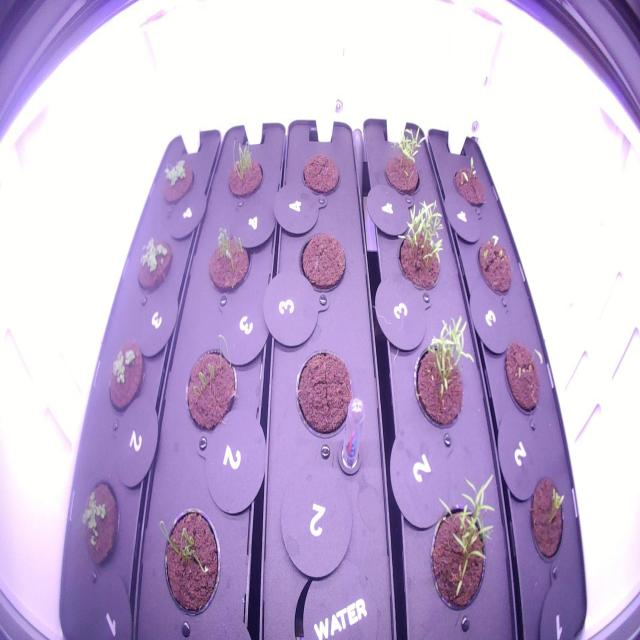germination: (422, 465, 503, 617), (407, 306, 479, 437), (154, 497, 226, 621), (178, 325, 240, 441), (391, 193, 448, 300), (76, 474, 128, 583), (375, 116, 431, 210), (525, 466, 572, 568), (201, 218, 257, 303), (501, 324, 548, 420), (103, 335, 150, 417), (473, 224, 518, 302), (222, 133, 268, 208), (448, 145, 492, 214), (132, 231, 176, 299), (154, 151, 197, 210)
pod: (290, 343, 361, 445), (294, 226, 351, 298), (296, 147, 344, 203)
